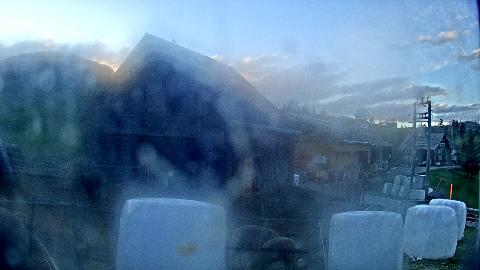car: (418, 162, 426, 166)
sheep: (232, 224, 282, 270), (0, 206, 32, 266), (246, 236, 300, 270), (102, 179, 138, 201), (79, 172, 103, 204)
